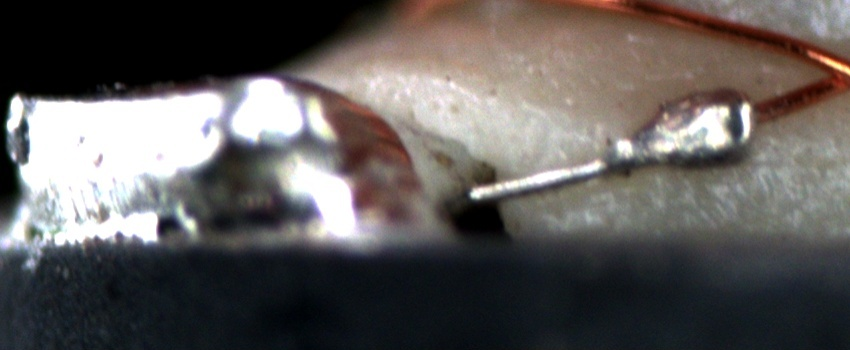CL: (798, 43, 850, 102)
DL: (740, 135, 850, 182)
TB: (631, 84, 775, 169)
TS: (467, 96, 754, 199)
TTCW: (461, 83, 806, 204)
